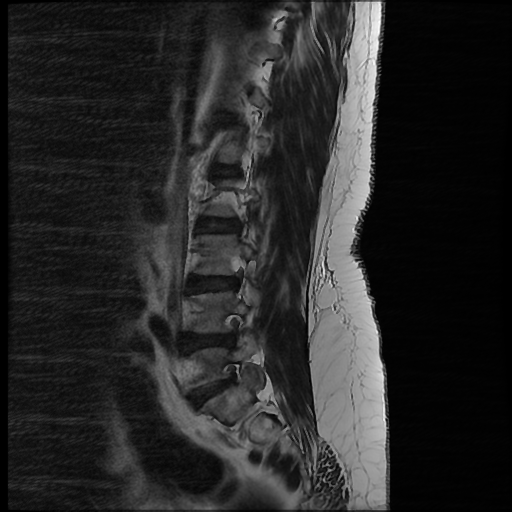RFS1: (218, 305, 249, 352), (216, 351, 247, 393)
